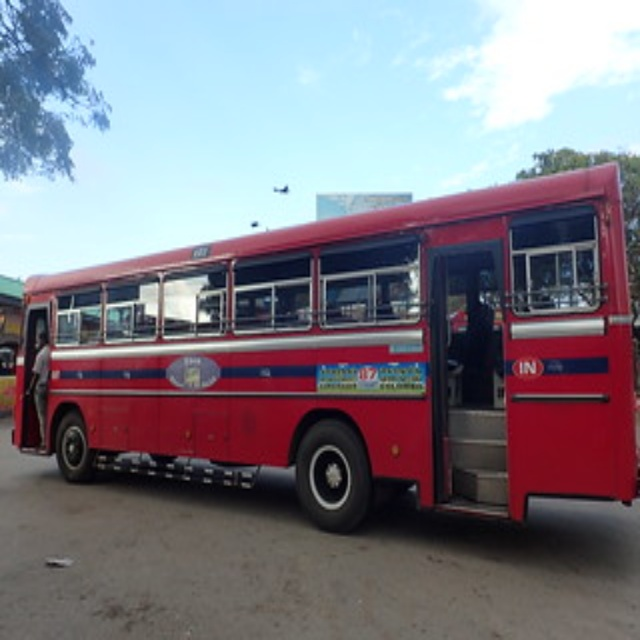Bus: (12, 163, 640, 525)
